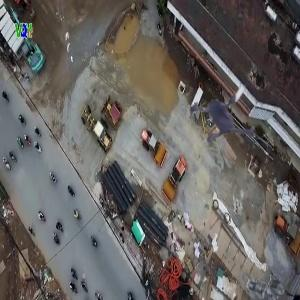drone: (179, 53, 289, 163)
